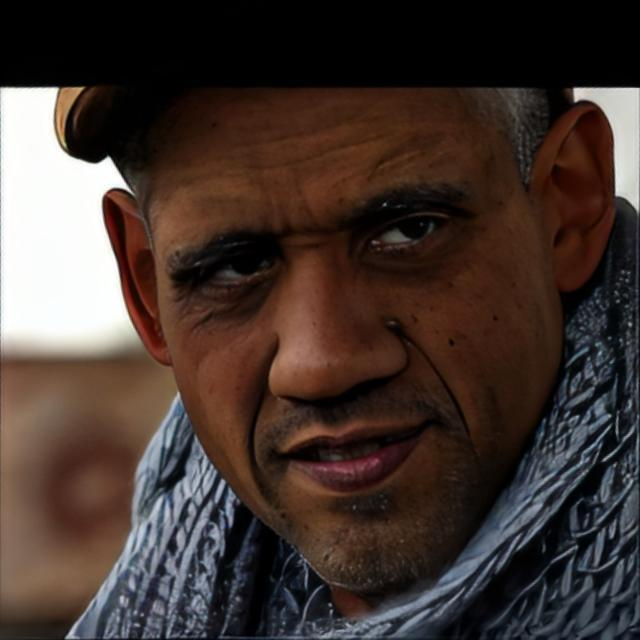disgust: (150, 84, 567, 590)
